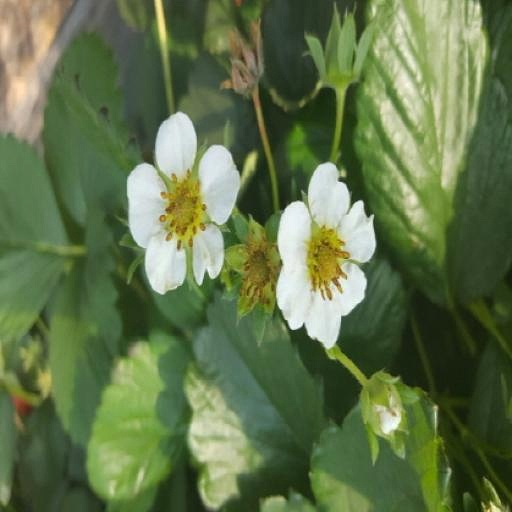Blossom Blight: (156, 259, 210, 345), (304, 208, 352, 291), (234, 200, 284, 276)
